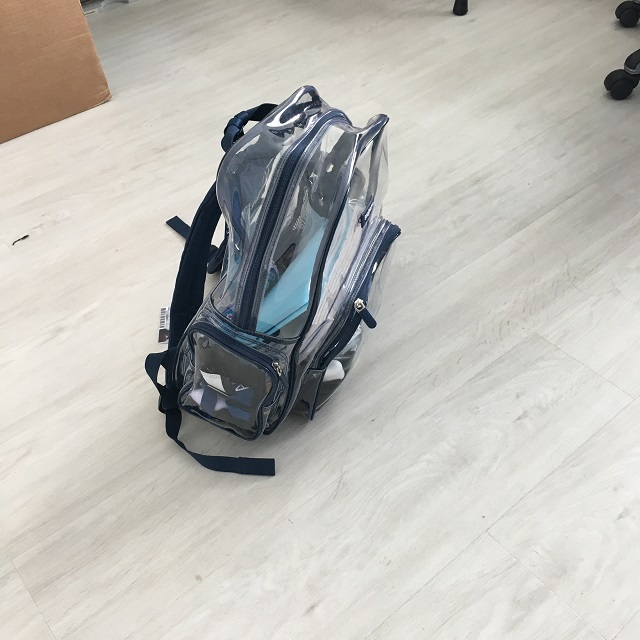clearbackpack: (157, 82, 402, 460)
